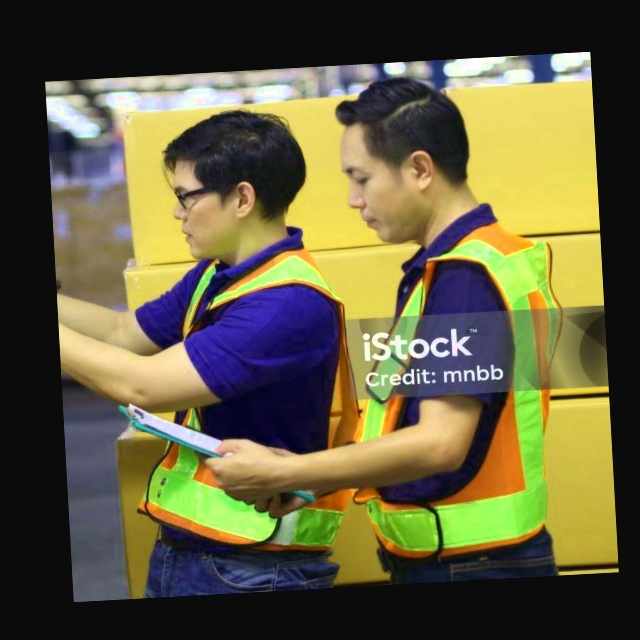Con_Chaleco: (148, 253, 362, 546)
Sin_Casco_Mascarrilla: (331, 75, 475, 248), (159, 109, 310, 264)
